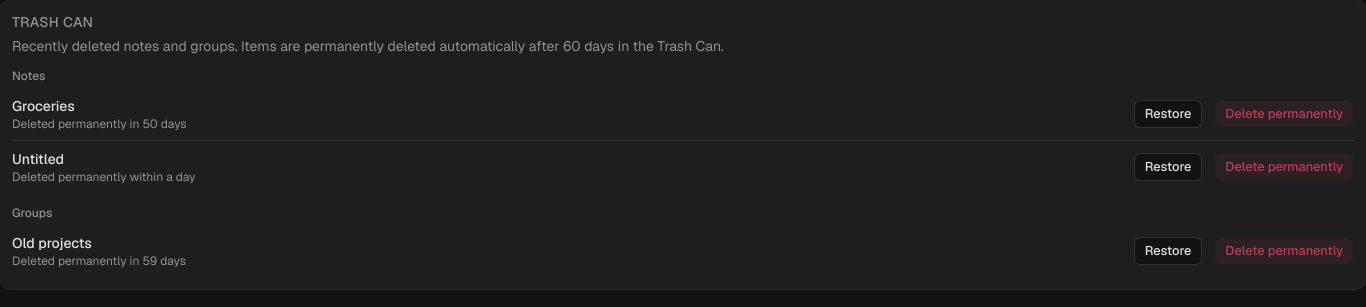
Test: TrashCan › drops an item that is already gone and says so
Click the button with aria-label "Restore Groceries".
click(1168, 114)  # box left=1134, top=100, right=1202, bottom=128
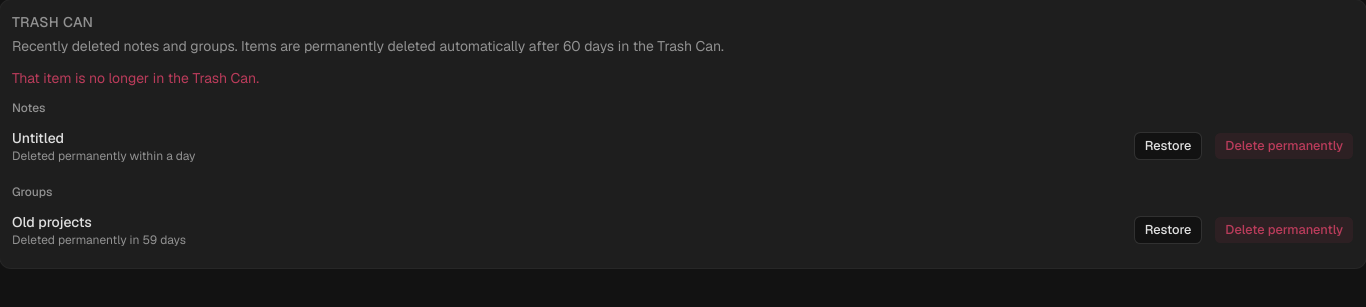
Result: the message reads "That item is no longer in the Trash Can." at left=12, top=69, right=259, bottom=87
Result: the text "Groceries" is gone
